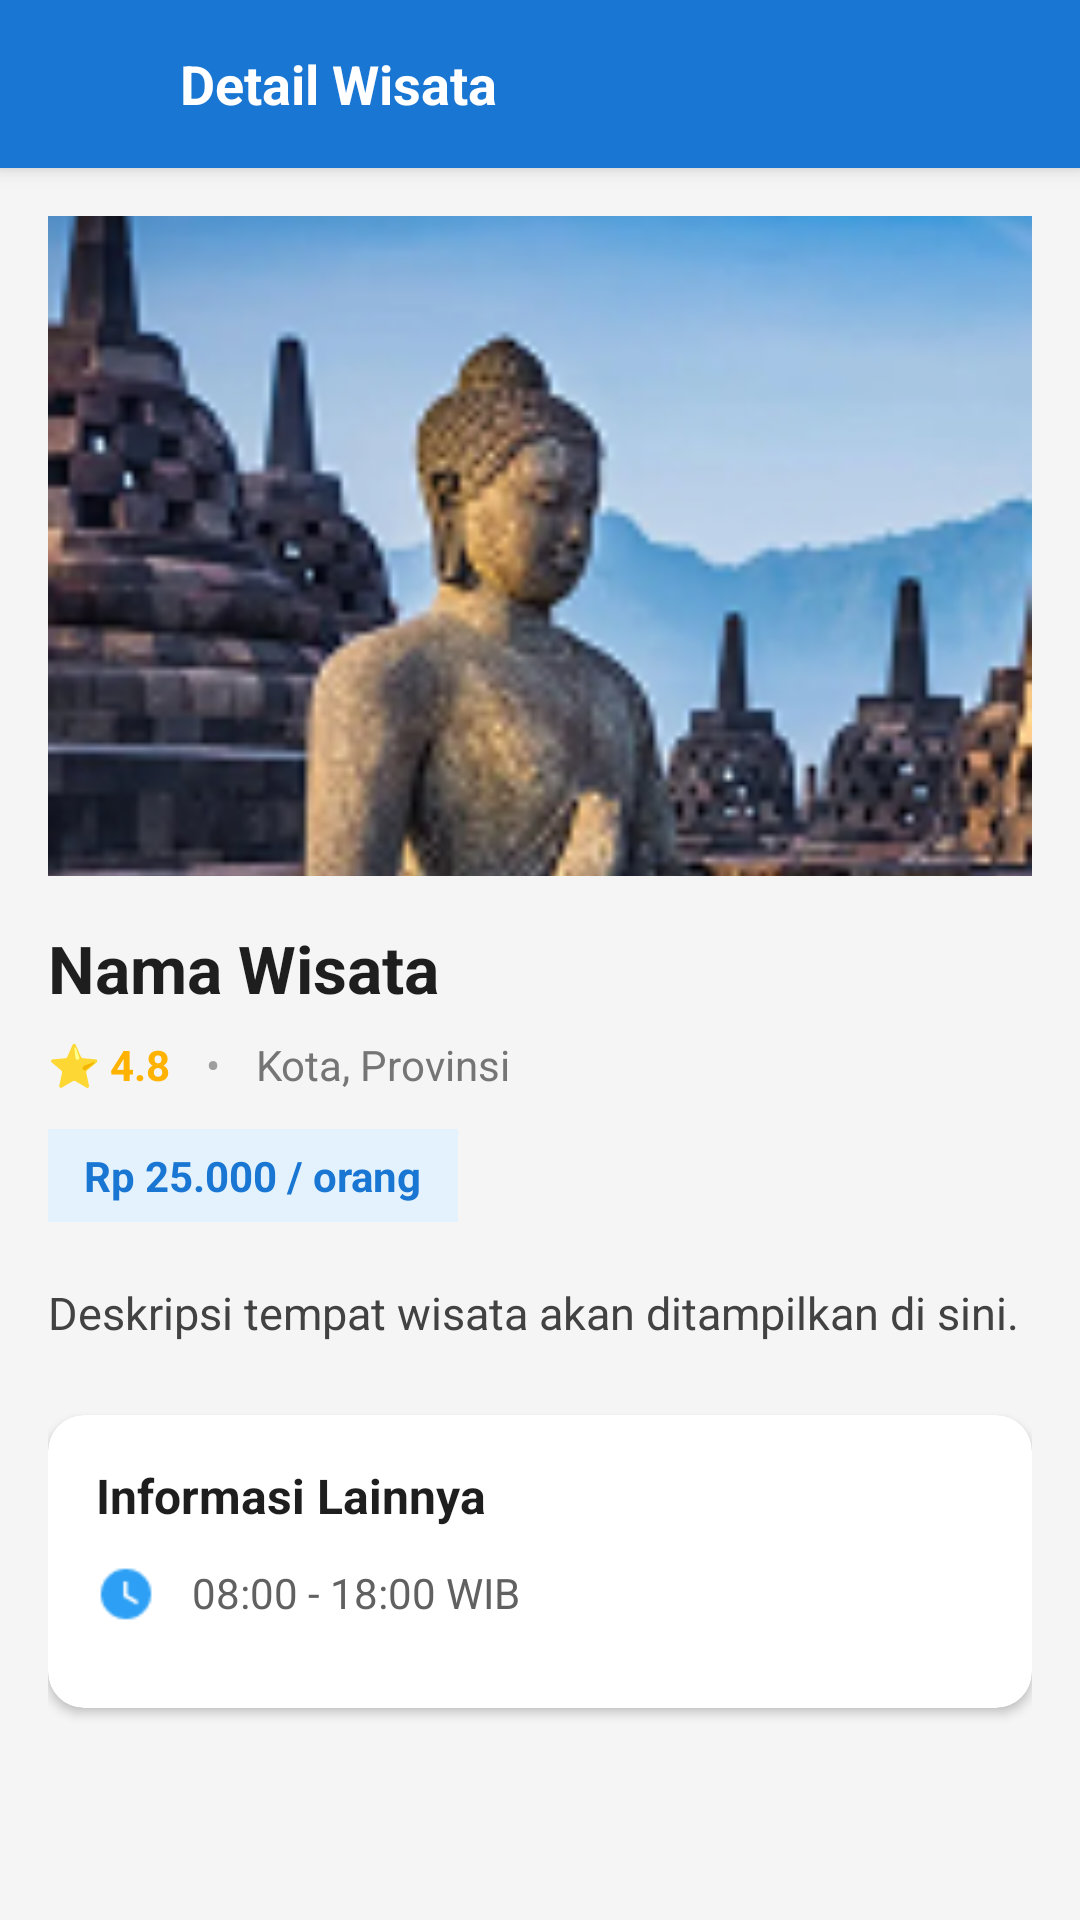

Point at icon controls on the screen. Image size 1080px×1920px, points as (x=x, y=y).
clock: (x=126, y=1594)
